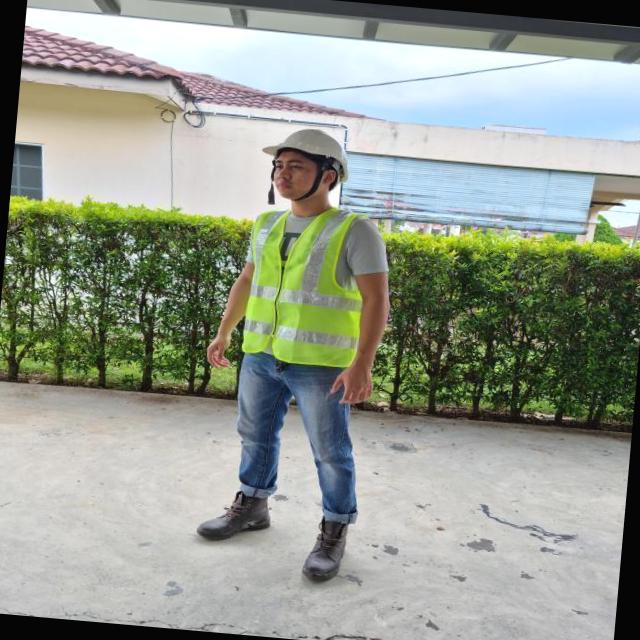vest: (237, 198, 377, 372)
